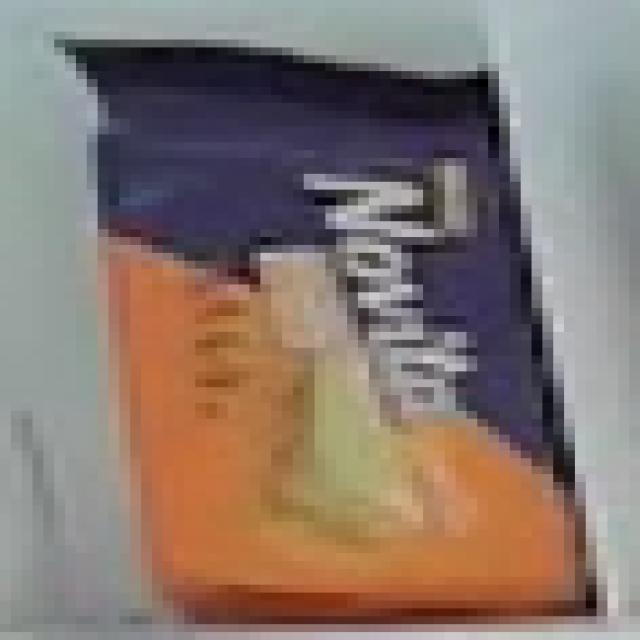Plastic: (44, 29, 616, 633)
